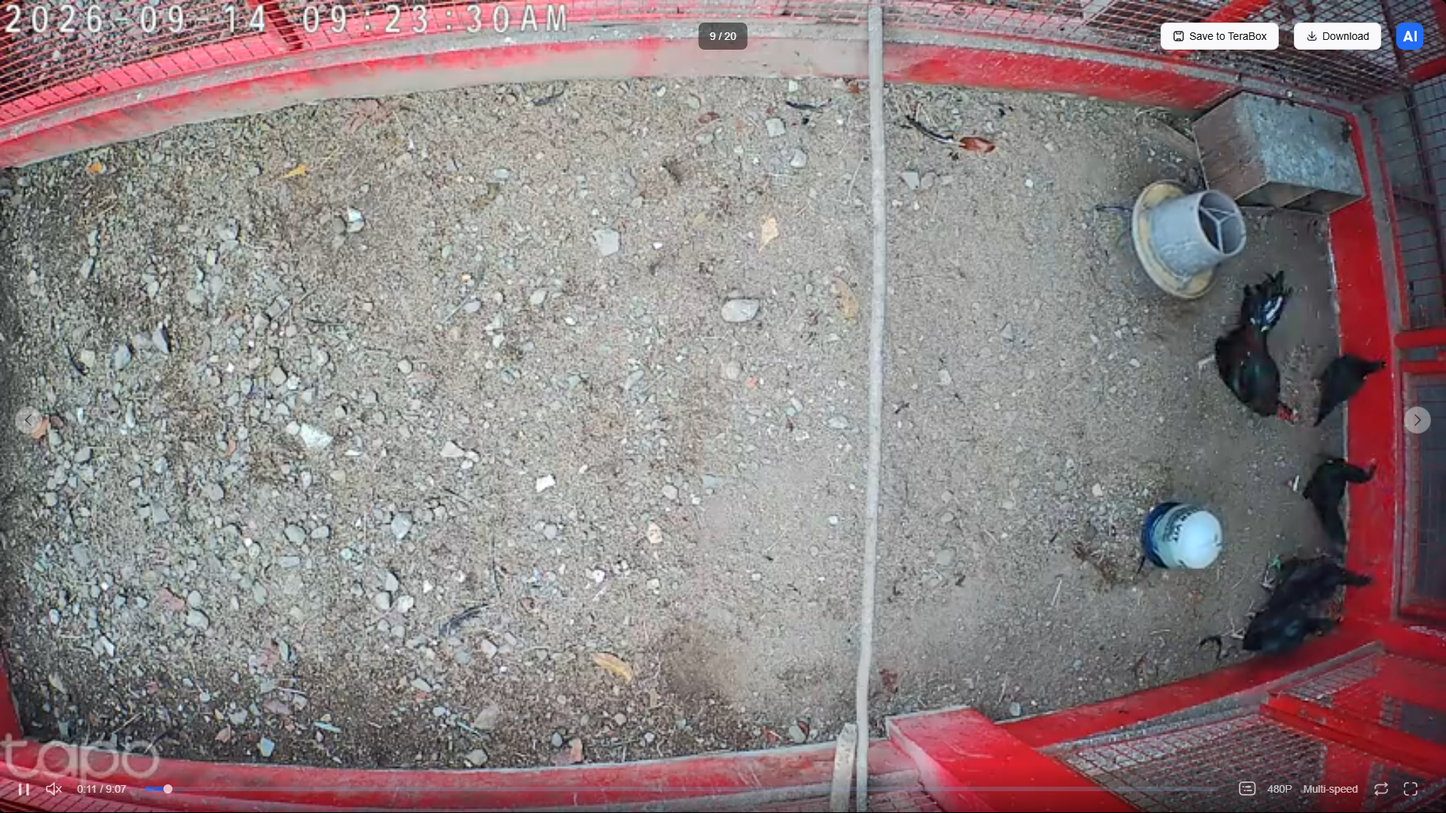Chicken: (1289, 451, 1380, 550), (1304, 348, 1387, 429), (1222, 606, 1342, 654), (1261, 555, 1375, 605)
Drinker: (1140, 500, 1228, 576)
Feeder: (1128, 175, 1248, 302)
Leg_Band_Green: (1269, 559, 1280, 568)
Leg_Band_White: (1292, 474, 1300, 490)
Rooster: (1192, 269, 1304, 432)
